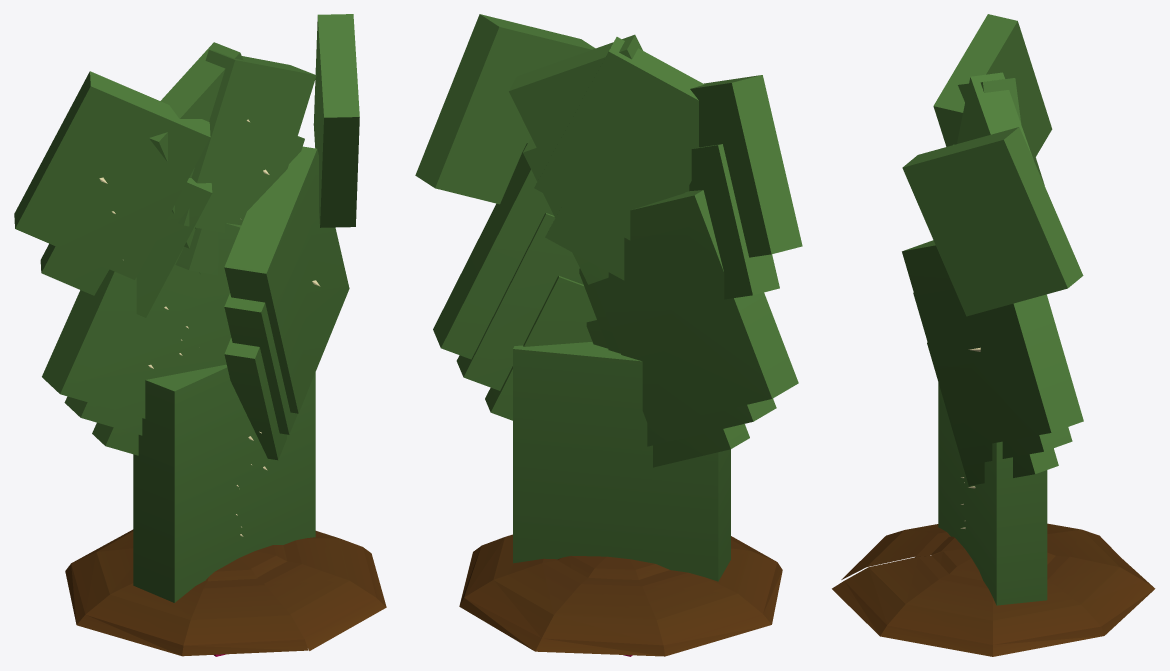
File: cactus.glb
The picture shows the model from 3 angles, left to right: view 1: azimuth 30°, elevation 25°; view 2: azimuth 150°, elevation 25°; view 3: azimuth 270°, elevation 25°; orthographic projection. The views are drawn at different scales.
Parts seen in each view (by area): view 1: stage4_l1_stem, stage4_stem, stage2_soil, stage3_stem, stage2_l1_stem, stage0_soil; view 2: stage4_l1_stem, stage4_stem, stage2_soil, stage3_stem, stage2_l1_stem, stage0_soil; view 3: stage4_l1_stem, stage2_soil, stage4_stem, stage3_stem, stage2_l1_stem, stage0_soil.
Boxes of the visible parts, box(x1,y1,x2,y2) form: stage4_l1_stem: box(33, 14, 359, 602); stage4_stem: box(14, 42, 315, 602); stage2_soil: box(65, 529, 386, 656); stage3_stem: box(40, 136, 304, 435); stage2_l1_stem: box(97, 338, 286, 460); stage0_soil: box(206, 545, 287, 581); stage4_l1_stem: box(415, 14, 798, 581); stage4_stem: box(513, 37, 802, 566); stage2_soil: box(459, 534, 782, 656); stage3_stem: box(456, 139, 779, 446); stage2_l1_stem: box(485, 275, 749, 467); stage0_soil: box(557, 555, 669, 579); stage4_l1_stem: box(902, 18, 1083, 601); stage2_soil: box(832, 523, 1155, 656); stage4_stem: box(945, 14, 1029, 605); stage3_stem: box(913, 104, 1072, 465); stage2_l1_stem: box(927, 342, 1058, 485); stage0_soil: box(915, 536, 1055, 580).
Size of the model in its own units: 0.621 by 0.981 by 0.5115.
